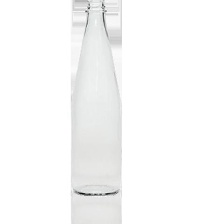bottle: (69, 0, 129, 198)
